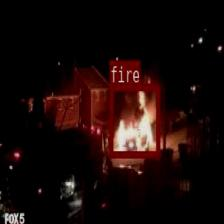fire: (109, 83, 160, 157)
